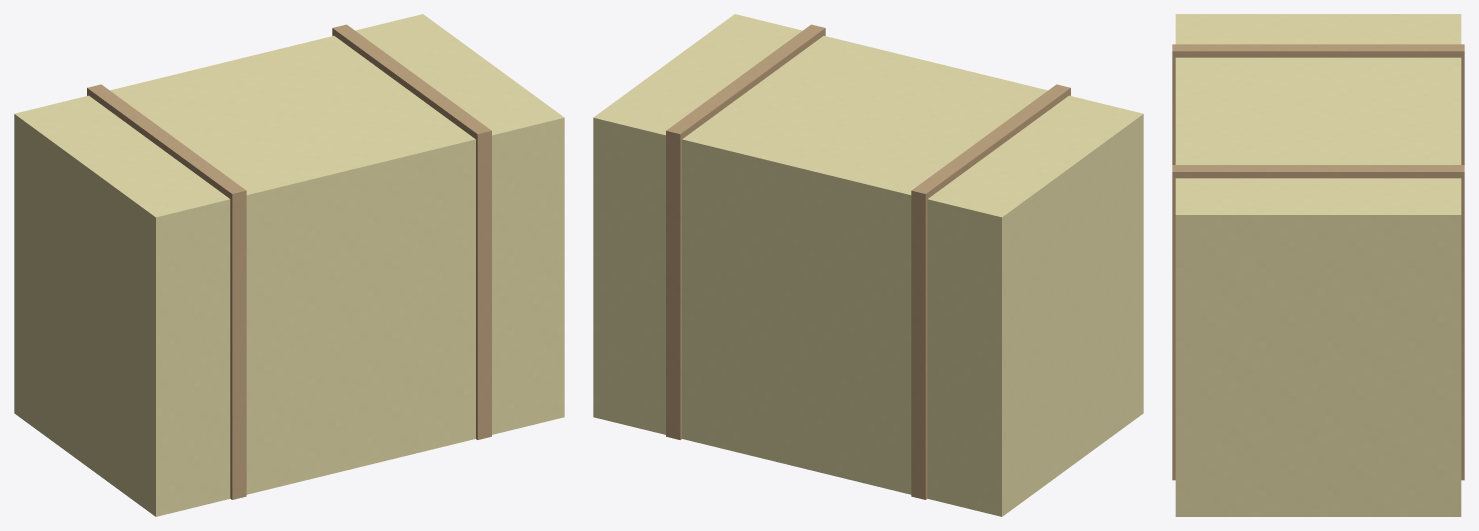
The model's file is low-poly-farm-hay-bale.glb.
The picture shows the model from 3 angles, left to right: view 1: azimuth 30°, elevation 25°; view 2: azimuth 150°, elevation 25°; view 3: azimuth 270°, elevation 25°; orthographic projection.
Parts seen in each view (by area): view 1: Straw bale 001, Binding twine 002, Binding twine 003; view 2: Straw bale 001, Binding twine 002, Binding twine 003; view 3: Straw bale 001, Binding twine 003, Binding twine 002.
Part boxes in pixels (x1=…): Straw bale 001: x1=14, y1=14, x2=564, y2=516; Binding twine 002: x1=87, y1=84, x2=246, y2=499; Binding twine 003: x1=332, y1=24, x2=491, y2=439; Straw bale 001: x1=593, y1=14, x2=1143, y2=516; Binding twine 002: x1=911, y1=84, x2=1070, y2=499; Binding twine 003: x1=666, y1=24, x2=825, y2=439; Straw bale 001: x1=1175, y1=14, x2=1461, y2=516; Binding twine 003: x1=1172, y1=165, x2=1464, y2=480; Binding twine 002: x1=1172, y1=44, x2=1464, y2=164.
Bounding box in the file's own units: 1 × 0.715 × 0.615.
Materials: 2 (2 with a texture image).
